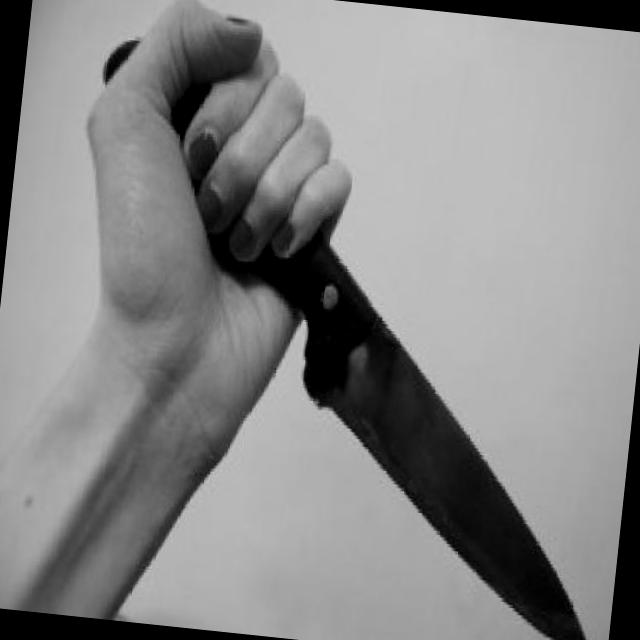knife: (145, 68, 640, 640)
